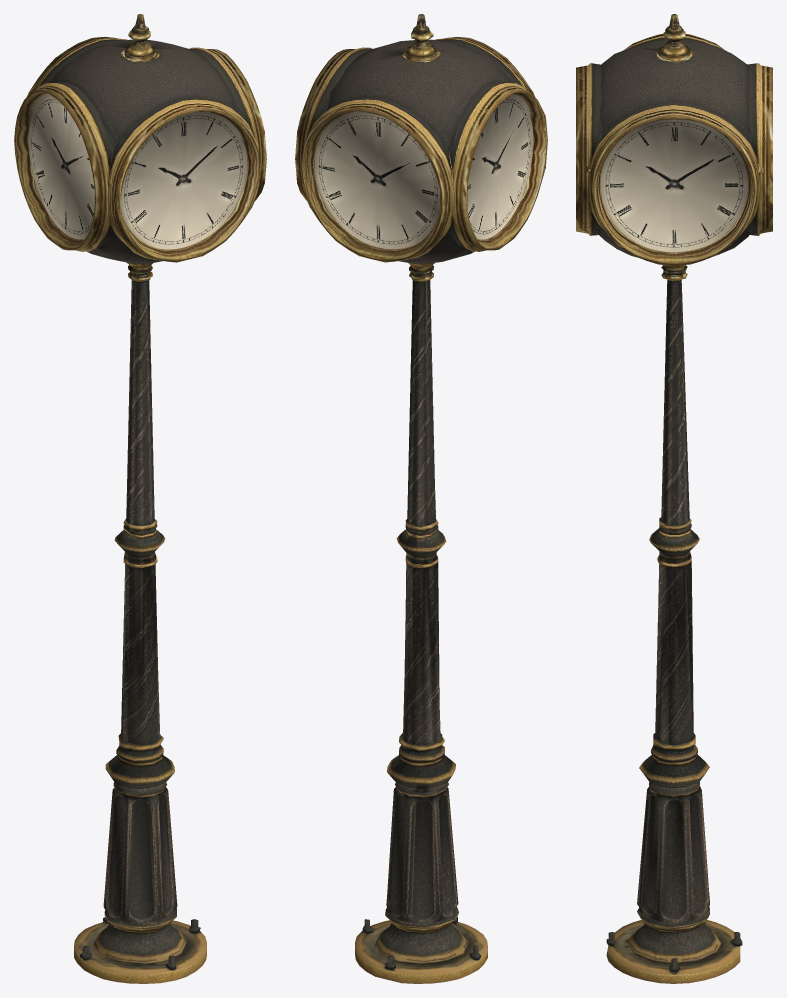
The model's file is tripo_convert_6d8ae055-d485-4e3c-80db-6efdbaa07424.fbx.
3 views of the same model, side by side, from view 1: azimuth 30°, elevation 25°; view 2: azimuth 150°, elevation 25°; view 3: azimuth 270°, elevation 25° (orthographic).
Parts seen in each view (by area): view 1: tripo_node_6d8ae055; view 2: tripo_node_6d8ae055; view 3: tripo_node_6d8ae055.
Boxes of the visible parts, left/top/right/bottom form: tripo_node_6d8ae055: left=14, top=14, right=266, bottom=983; tripo_node_6d8ae055: left=295, top=14, right=547, bottom=983; tripo_node_6d8ae055: left=576, top=14, right=772, bottom=983.
Bounding box in the file's own units: 0.1895 × 0.998 × 0.1895.
Materials: 1 (1 with a texture image).
